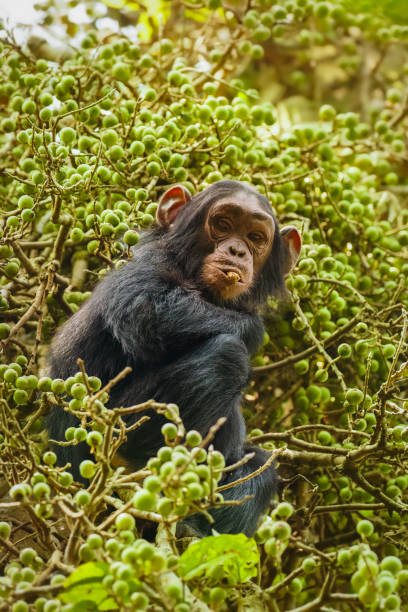chimpanzee: (147, 156, 305, 330)
